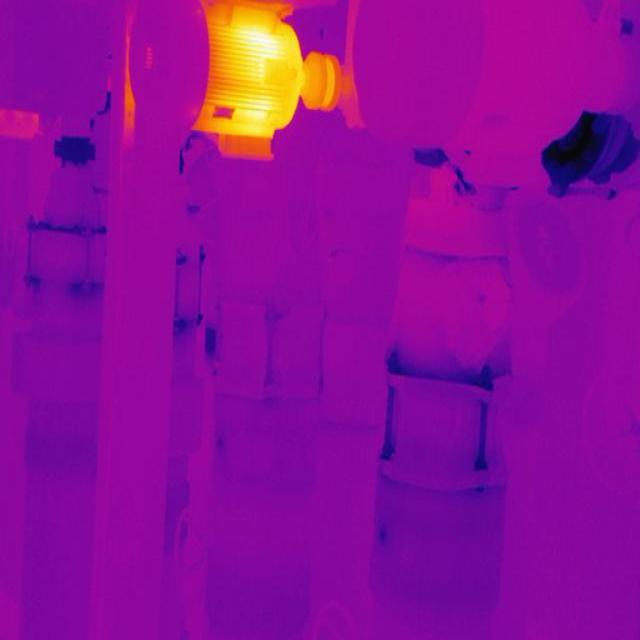leakage: (536, 111, 640, 201)
